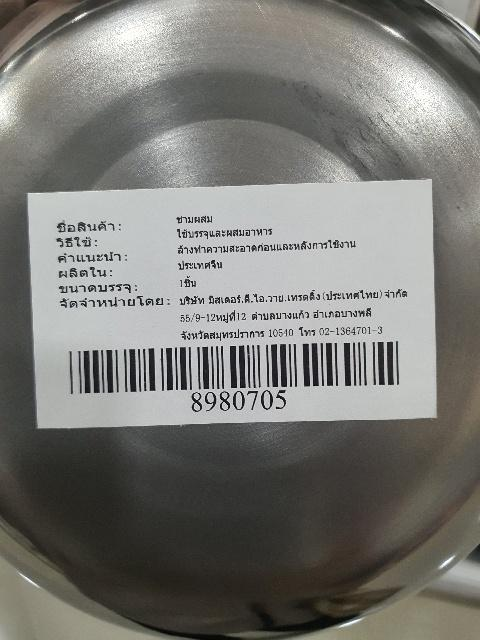Barcode: (52, 333, 412, 415)
